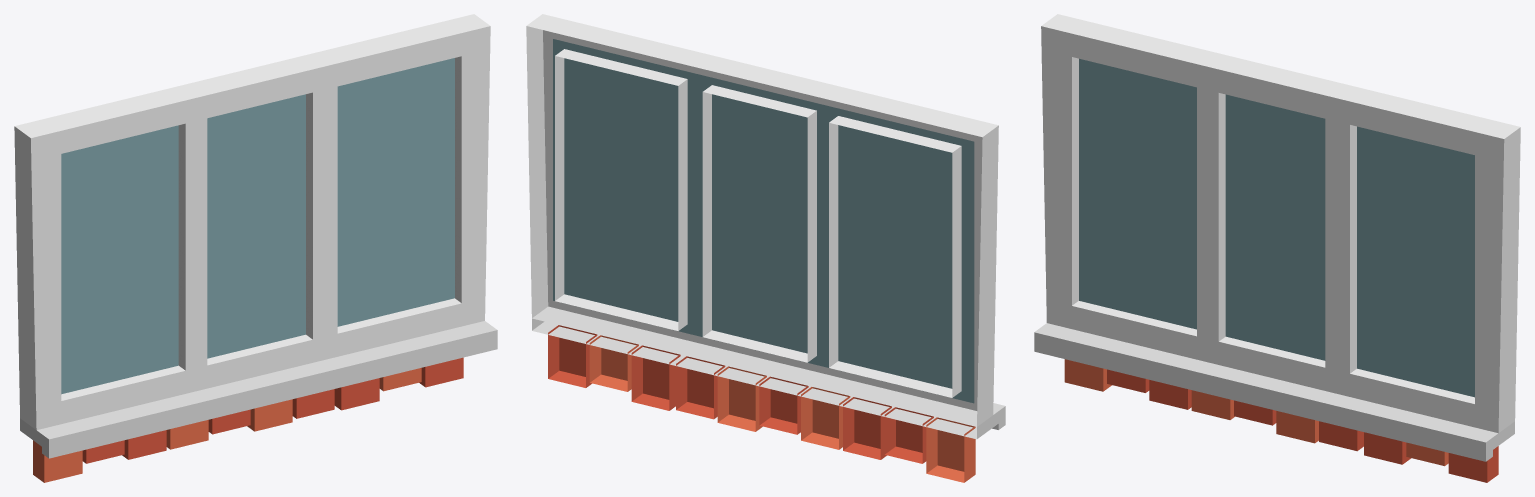
Rendered from House (Window 2).fbx.
The picture shows the model from 3 angles, left to right: view 1: azimuth 30°, elevation 25°; view 2: azimuth 150°, elevation 25°; view 3: azimuth 330°, elevation 25°; orthographic projection.
Visible parts, largest first — view 1: House (Window 2); view 2: House (Window 2); view 3: House (Window 2).
Boxes of the visible parts, bbox=[...] form: House (Window 2): bbox=[14, 14, 497, 482]; House (Window 2): bbox=[526, 14, 1005, 482]; House (Window 2): bbox=[1034, 14, 1520, 482].
Size of the model in its own units: 549 by 403 by 60.02.
